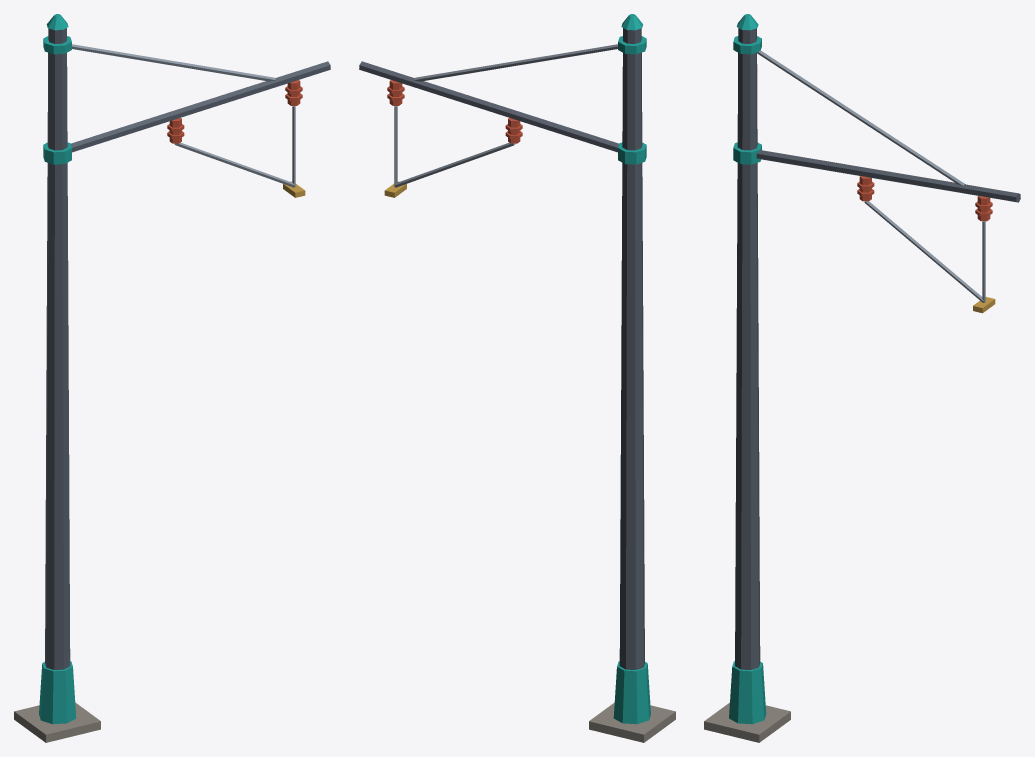
The model's file is rail_post.glb.
3 views of the same model, side by side, from view 1: azimuth 30°, elevation 25°; view 2: azimuth 150°, elevation 25°; view 3: azimuth 330°, elevation 25° (orthographic).
Visible parts, largest first — view 1: Post; view 2: Post; view 3: Post.
Part boxes in pixels (x1,y1,x2,y2): Post: [14, 14, 330, 742]; Post: [359, 14, 675, 742]; Post: [704, 14, 1020, 742].
Size of the model in its own units: 3.03 by 6.88 by 0.56.
